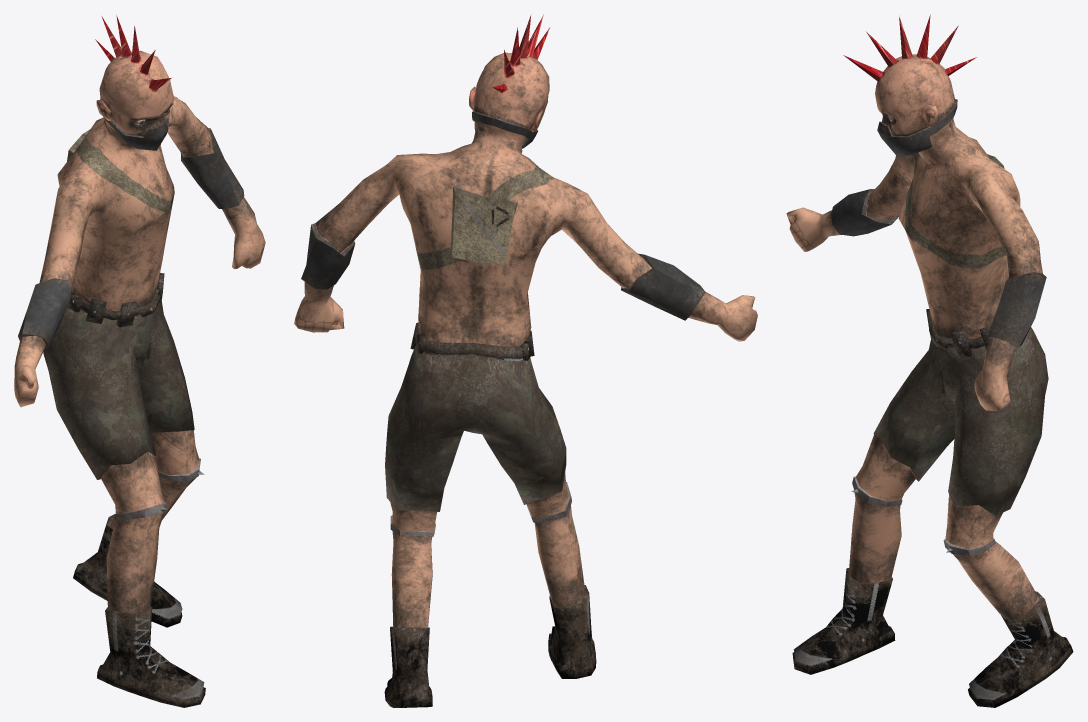
The model's file is Anim_interruptor_npc2.0023.obj.
3 views of the same model, side by side, from view 1: azimuth 30°, elevation 25°; view 2: azimuth 150°, elevation 25°; view 3: azimuth 270°, elevation 25° (orthographic). The views are drawn at different scales.
Parts seen in each view (by area): view 1: polySurface1; view 2: polySurface1; view 3: polySurface1.
Part boxes in pixels (<box>): polySurface1: <box>14,15,265,707</box>; polySurface1: <box>294,14,757,707</box>; polySurface1: <box>786,14,1073,707</box>.
Size of the model in its own units: 5.46 by 9.8 by 3.93.
